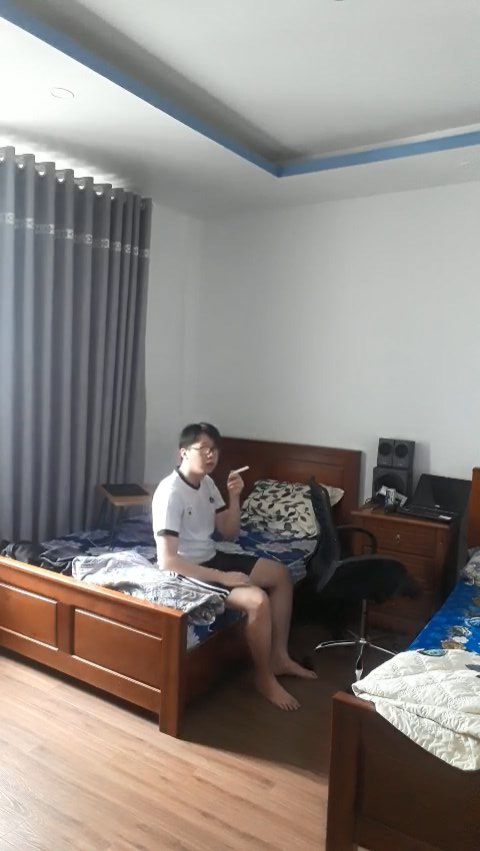cigarette: (234, 465, 250, 474)
person: (153, 414, 320, 729)
